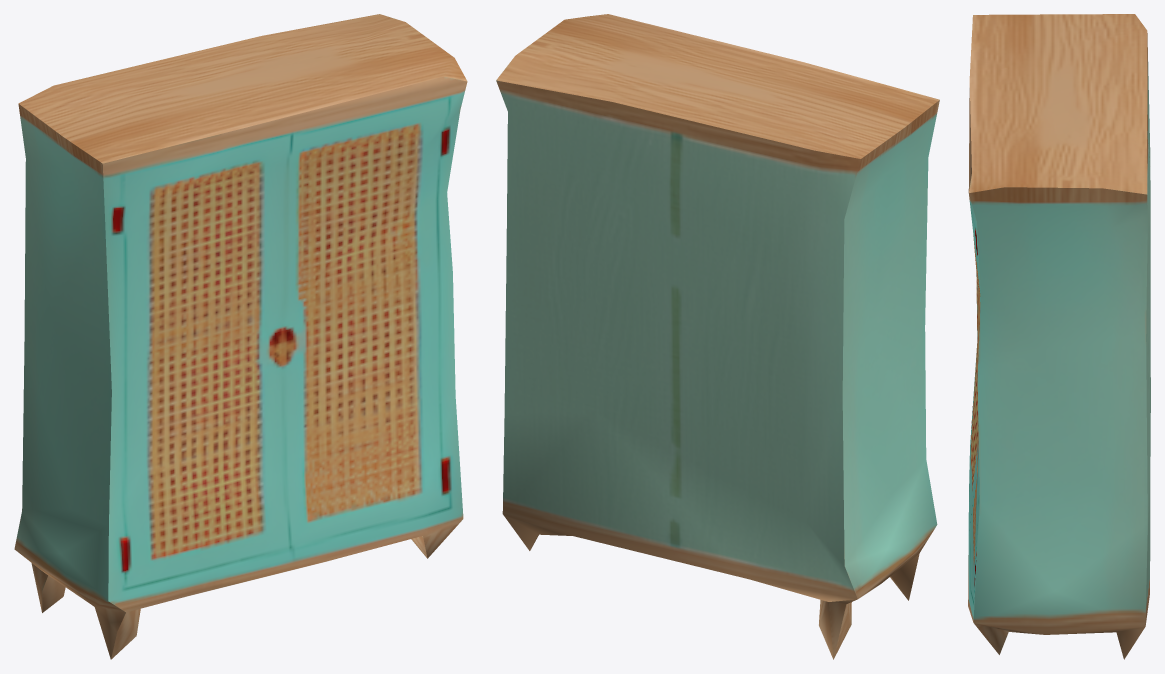
File: seavilla-cane-cabinet.glb
The picture shows the model from 3 angles, left to right: view 1: azimuth 30°, elevation 25°; view 2: azimuth 150°, elevation 25°; view 3: azimuth 270°, elevation 25°; orthographic projection. The views are drawn at different scales.
Visible parts, largest first — view 1: geometry_0; view 2: geometry_0; view 3: geometry_0.
Boxes of the visible parts, x1=… form: geometry_0: x1=14, y1=14, x2=467, y2=659; geometry_0: x1=496, y1=14, x2=939, y2=659; geometry_0: x1=968, y1=14, x2=1150, y2=659.
Bounding box in the file's own units: 0.746 × 1 × 0.3225.
Materials: 1 (1 with a texture image).
